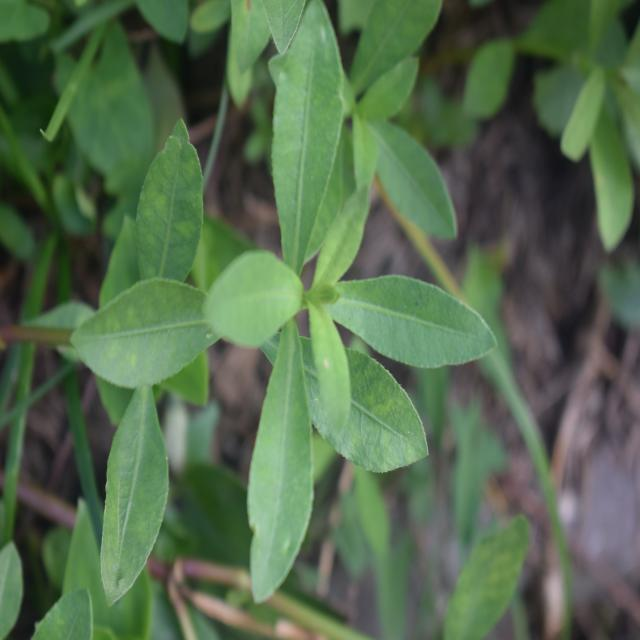Alligatorweed: (190, 58, 457, 609)
